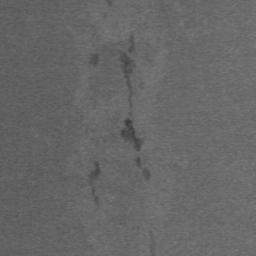Iron scale compression: (121, 118, 141, 152), (119, 53, 136, 84), (88, 162, 100, 197), (139, 168, 151, 182), (89, 54, 100, 67), (128, 34, 134, 53), (134, 157, 142, 167)
